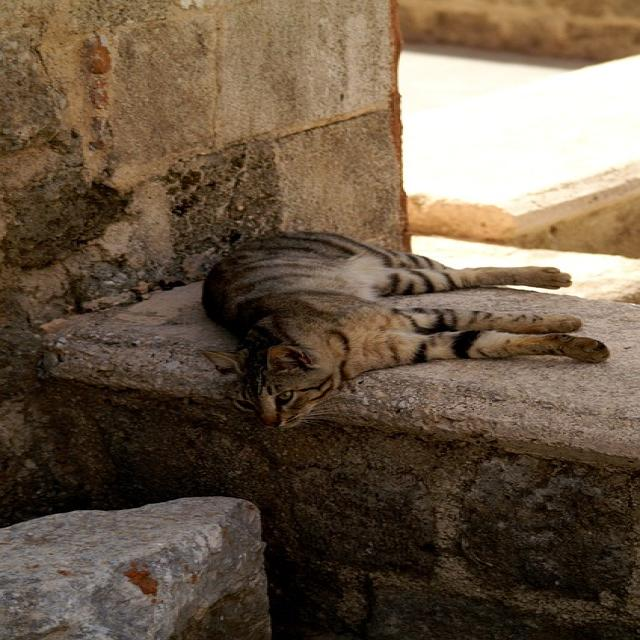cat: (202, 232, 609, 427)
